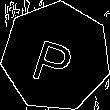P_N: (31, 27, 81, 86)
